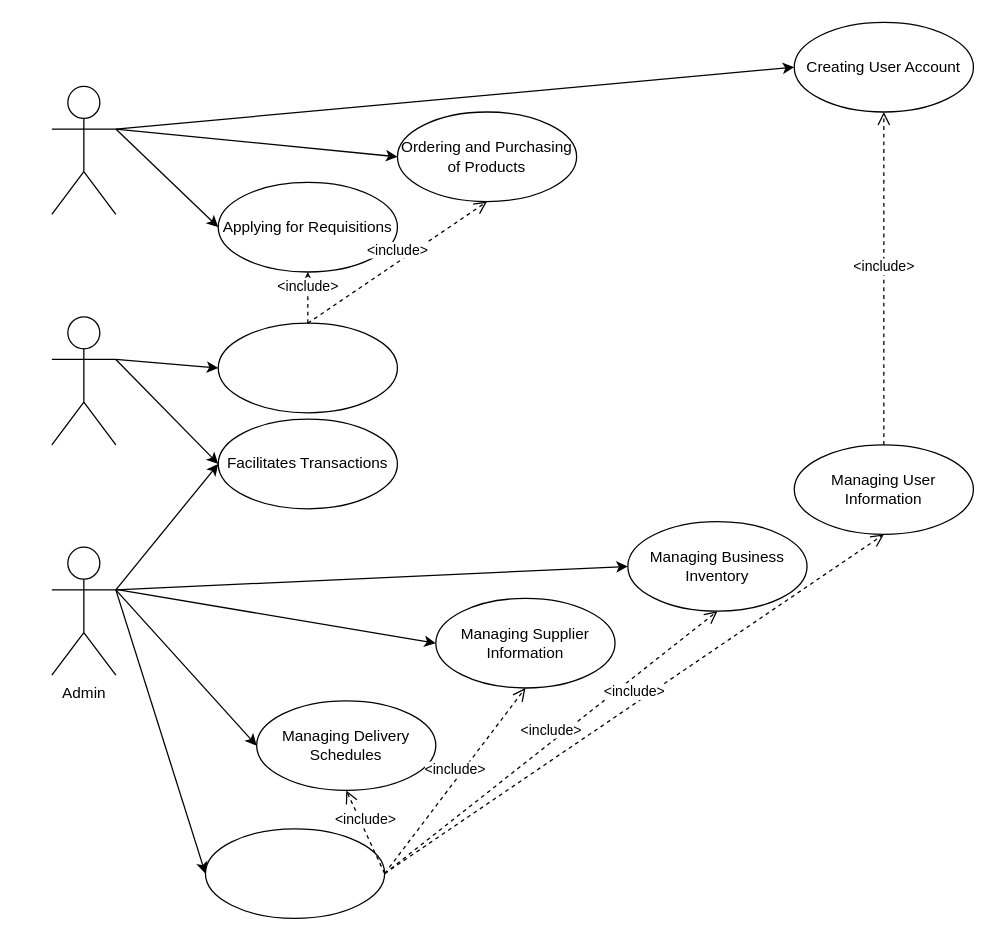
This 996x941 diagram has some shape labels left out. Here are the shapes that lost their labels. From the top down, the centre of each, then its label:
At (x=83, y=149): "Peddler/Customer".
At (x=83, y=380): "Supervisor".
At (x=307, y=367): "Creating Requisitions of Products".
At (x=294, y=873): "Managing User and Inventory Data".
